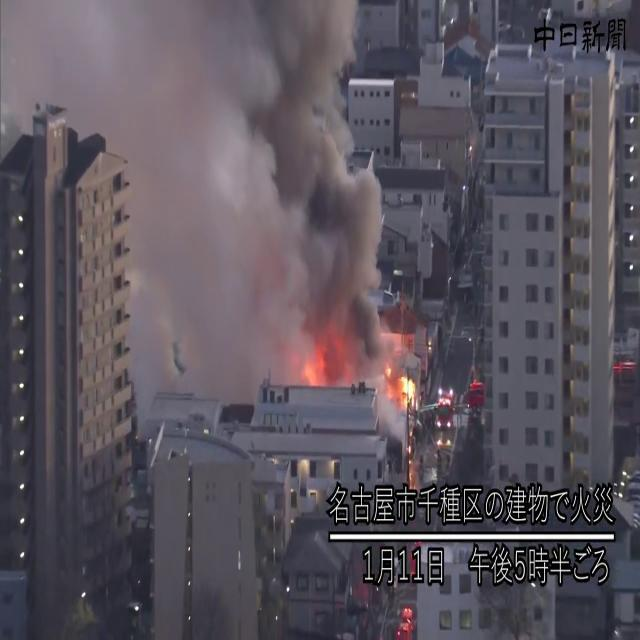Fire: (389, 364, 418, 410)
Smoke: (124, 1, 390, 377)
